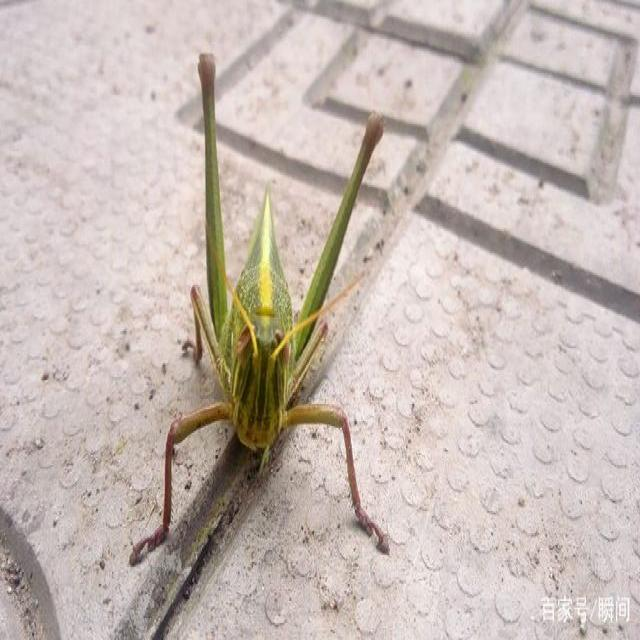ZhaMeng: (143, 38, 420, 558)
